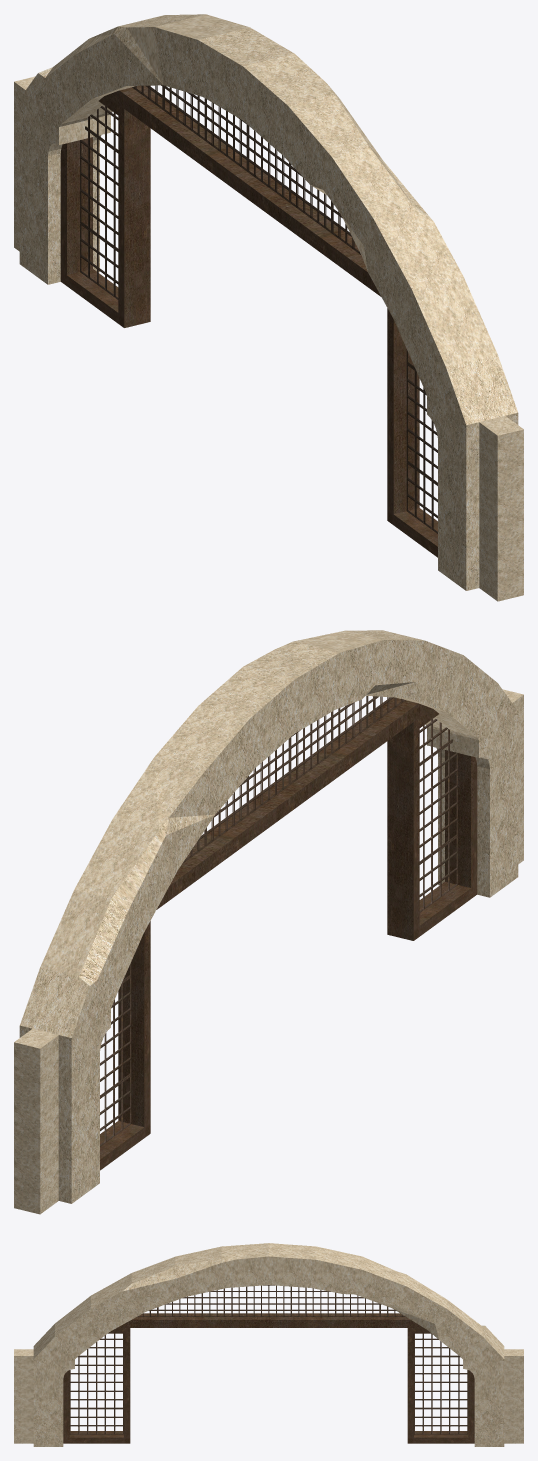
Rendered from thm_tato_imprv_wallgate_wide_s01_l0.fbx.
The picture shows the model from 3 angles, top to bottom: view 1: azimuth 30°, elevation 25°; view 2: azimuth 150°, elevation 25°; view 3: azimuth 270°, elevation 25°; orthographic projection. The views are drawn at different scales.
Parts seen in each view (by area): view 1: mesh_node; view 2: mesh_node; view 3: mesh_node.
Part boxes in pixels (x1=…): mesh_node: x1=14, y1=14, x2=523, y2=601; mesh_node: x1=14, y1=630, x2=523, y2=1214; mesh_node: x1=14, y1=1243, x2=523, y2=1446.
Bounding box in the file's own units: 0.9899 × 6.59 × 16.
